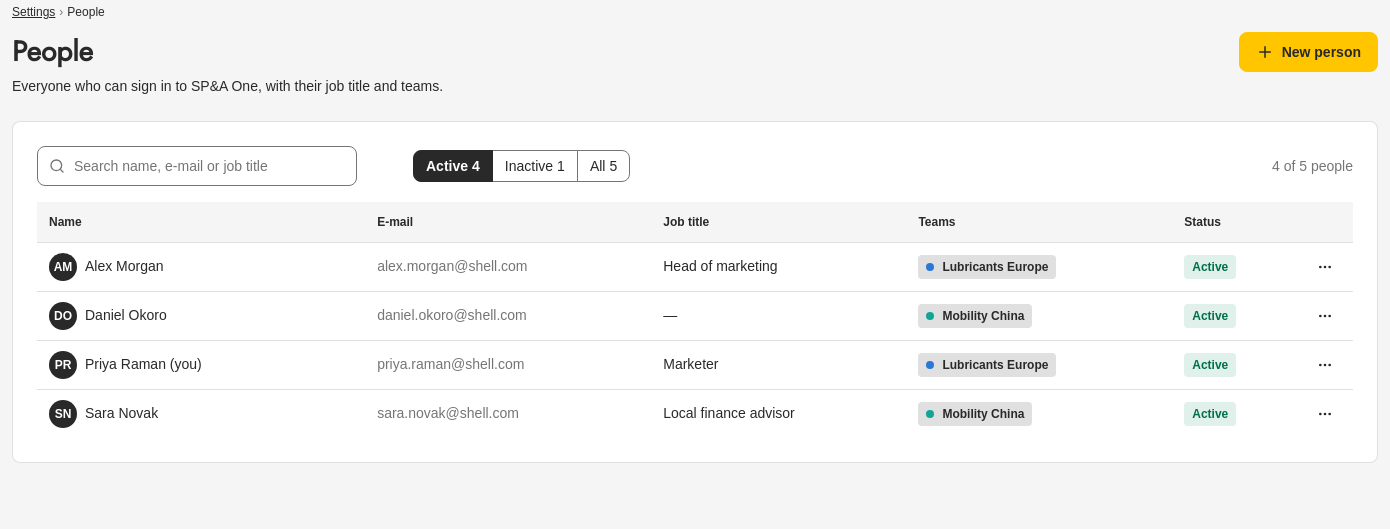
Test: PeoplePage (feature 003, US1): the list › lists the active people first, and everyone under All (FR-001)
Expected: the text "4 of 5 people" is shown, [1272,156,1353,176]
Expected: the row "Jane Doe" is not shown
What coordinates should you click on to do the following:
click the button "All 5"
I would click on:
 (604, 166)
Its box is [577,150,630,182].
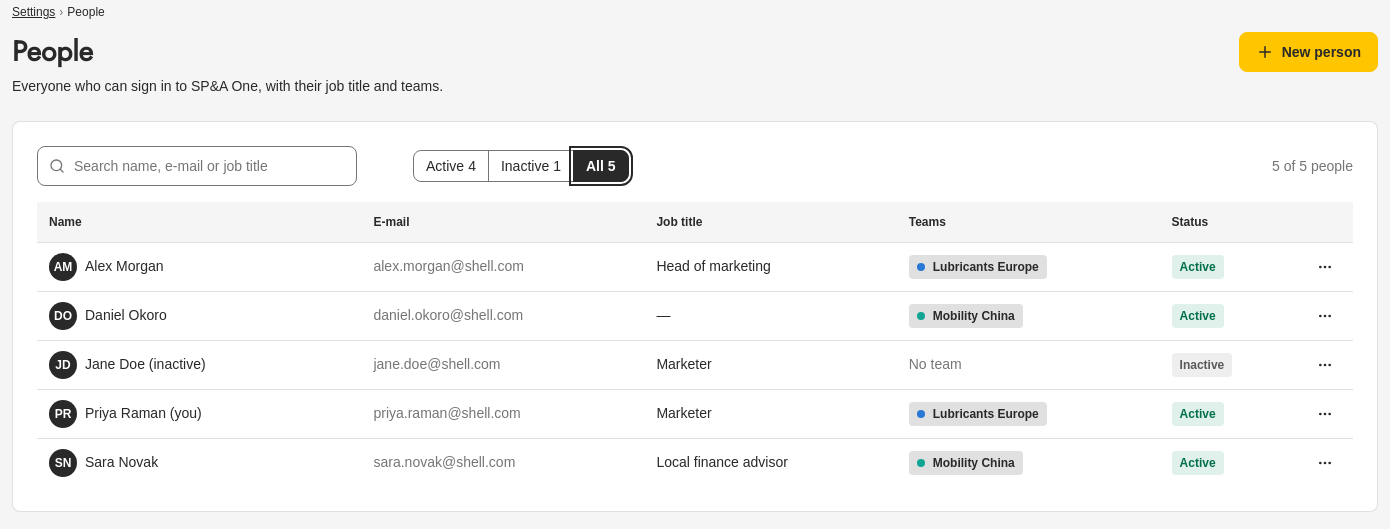
Expected: the text "5 of 5 people" is shown, [1272,156,1353,176]
Expected: the row "Jane Doe" shows "Jane Doe (inactive)", [37,340,1353,389]
Expected: the row "Jane Doe" shows "No team", [909,356,962,372]
